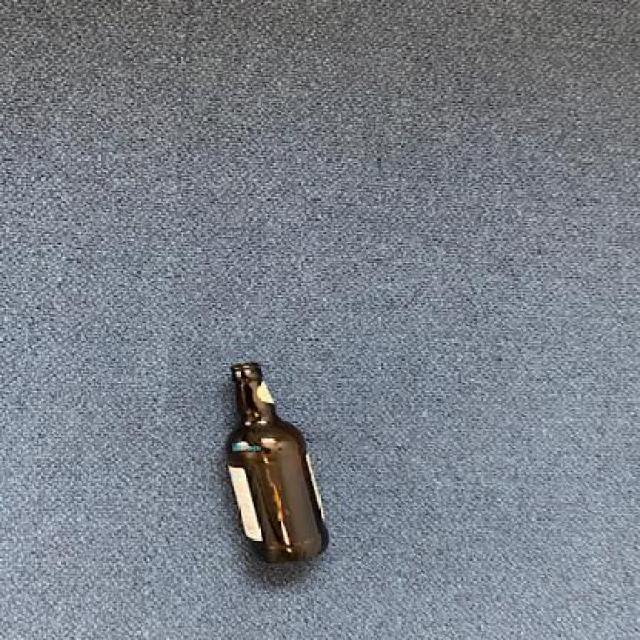trash: (222, 363, 333, 565)
